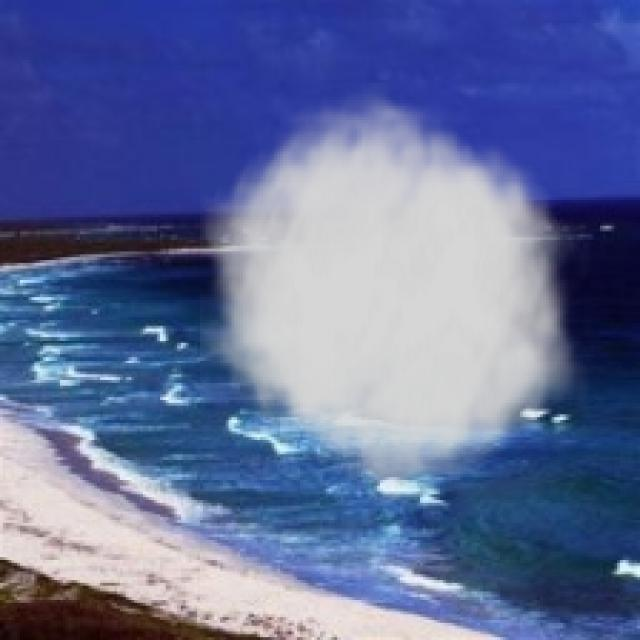smoke: (200, 83, 591, 506)
